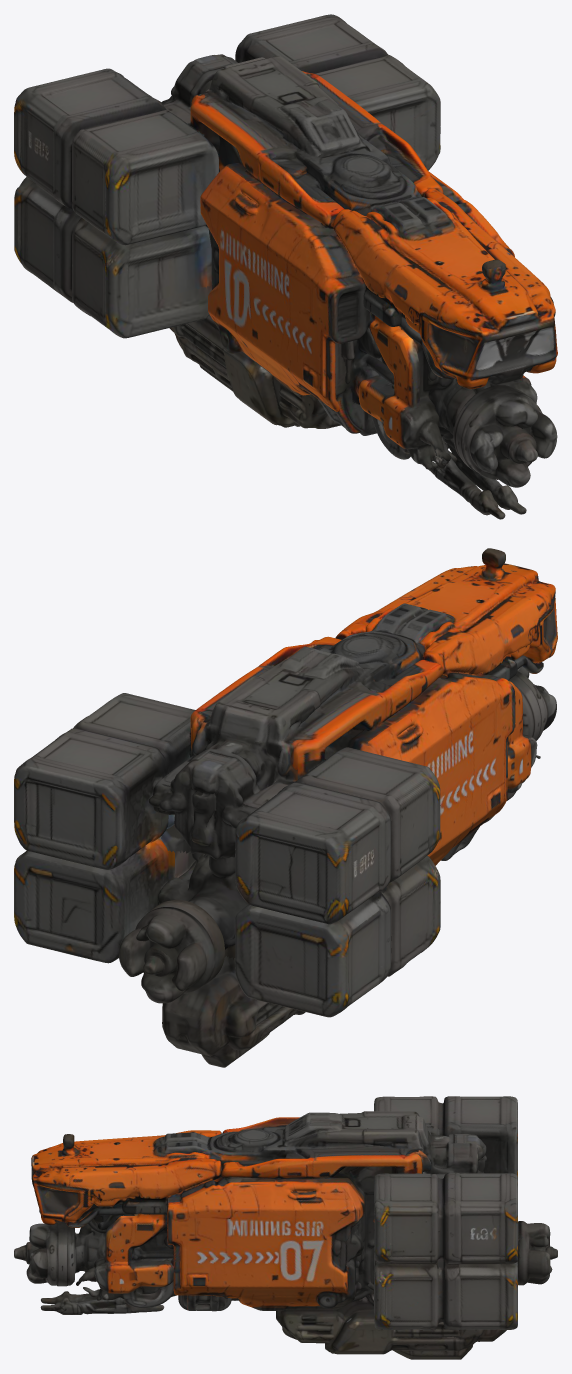
File: ship1.glb
The picture shows the model from 3 angles, top to bottom: view 1: azimuth 30°, elevation 25°; view 2: azimuth 150°, elevation 25°; view 3: azimuth 270°, elevation 25°; orthographic projection. The views are drawn at different scales.
Visible parts, largest first — view 1: tripo_node_fcfce6d9-7708-4772-834c-94a3c49ef7e1; view 2: tripo_node_fcfce6d9-7708-4772-834c-94a3c49ef7e1; view 3: tripo_node_fcfce6d9-7708-4772-834c-94a3c49ef7e1.
Boxes of the visible parts, x1=… form: tripo_node_fcfce6d9-7708-4772-834c-94a3c49ef7e1: x1=14, y1=14, x2=557, y2=519; tripo_node_fcfce6d9-7708-4772-834c-94a3c49ef7e1: x1=14, y1=548, x2=557, y2=1067; tripo_node_fcfce6d9-7708-4772-834c-94a3c49ef7e1: x1=14, y1=1096, x2=557, y2=1359.
Bounding box in the file's own units: 0.4982 × 0.4832 × 1.
1 material, 1 textured.
